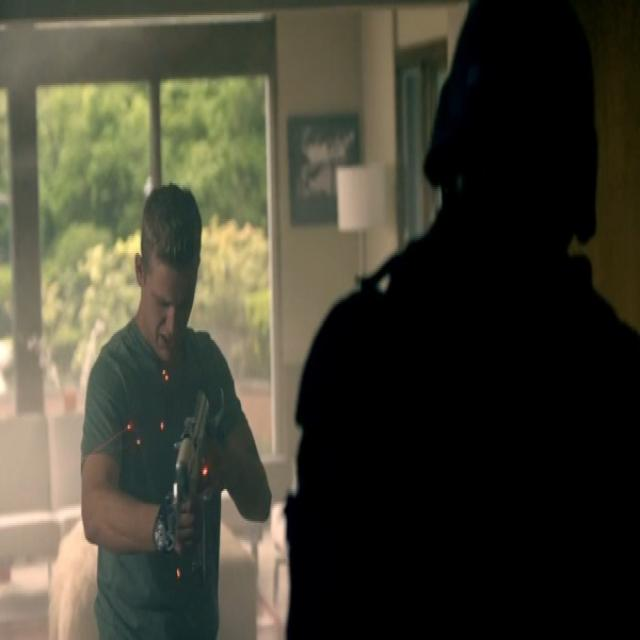rifle: (160, 390, 232, 597)
